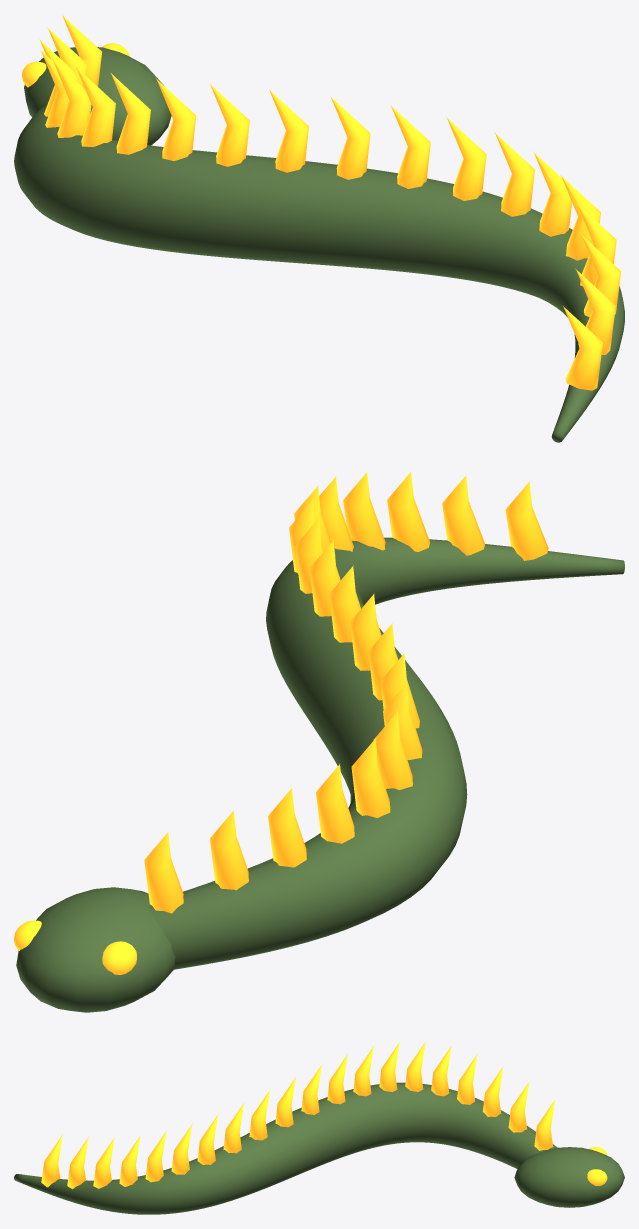
File: boitata.glb
The picture shows the model from 3 angles, top to bottom: view 1: azimuth 30°, elevation 25°; view 2: azimuth 150°, elevation 25°; view 3: azimuth 270°, elevation 25°; orthographic projection. The views are drawn at different scales.
Visible parts, largest first — view 1: SM_boitata; view 2: SM_boitata; view 3: SM_boitata.
Part boxes in pixels (bbox=[...]): SM_boitata: bbox=[14, 15, 624, 442]; SM_boitata: bbox=[14, 471, 624, 1012]; SM_boitata: bbox=[14, 1041, 624, 1214].
Bounding box in the file's own units: 1.64 × 0.9722 × 4.2.
